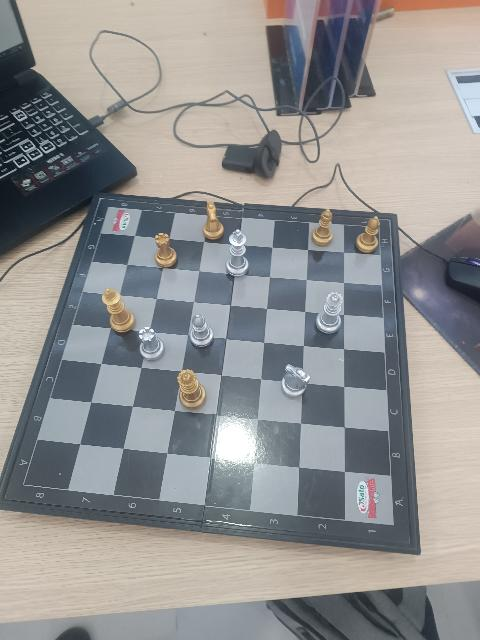black_bishop: (355, 215, 381, 253), (312, 208, 334, 245)
black_king: (102, 288, 134, 333)
black_knight: (201, 200, 224, 240)
black_queen: (177, 368, 207, 409)
black_rook: (154, 233, 178, 268)
white_bishop: (189, 313, 214, 348)
white_king: (226, 229, 248, 277)
white_knight: (281, 363, 311, 398)
white_queen: (316, 292, 344, 335)
white_rook: (138, 326, 165, 361)
